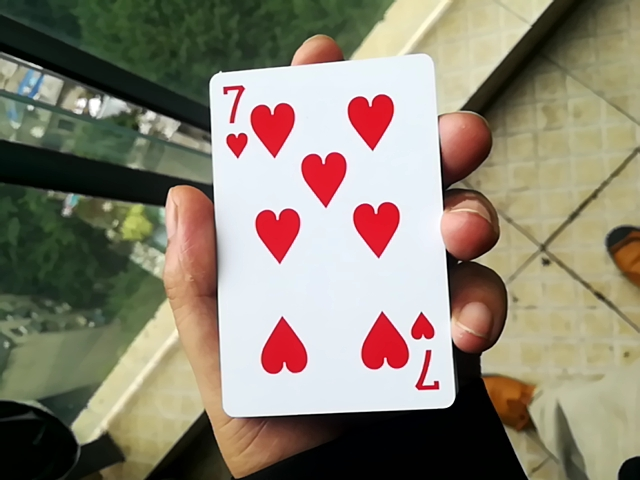hx 7: (205, 34, 444, 420)
